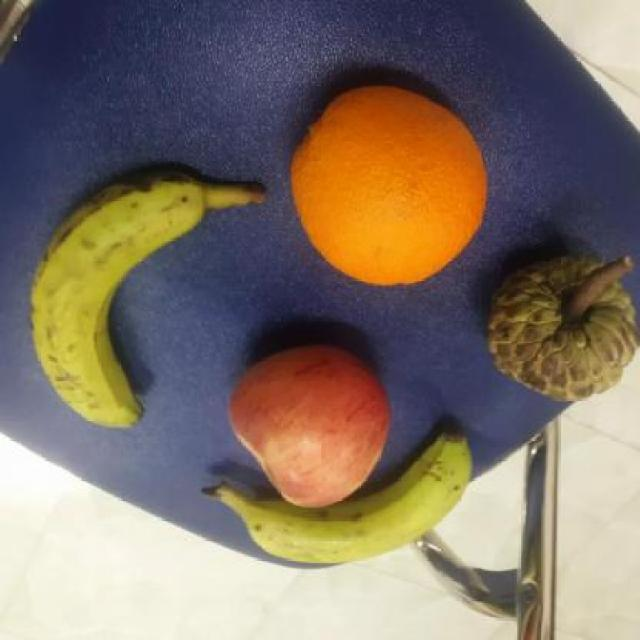apple: (220, 335, 394, 510)
banana: (26, 165, 206, 426)
oren: (290, 81, 488, 288)
sugar apple: (487, 252, 640, 406)
